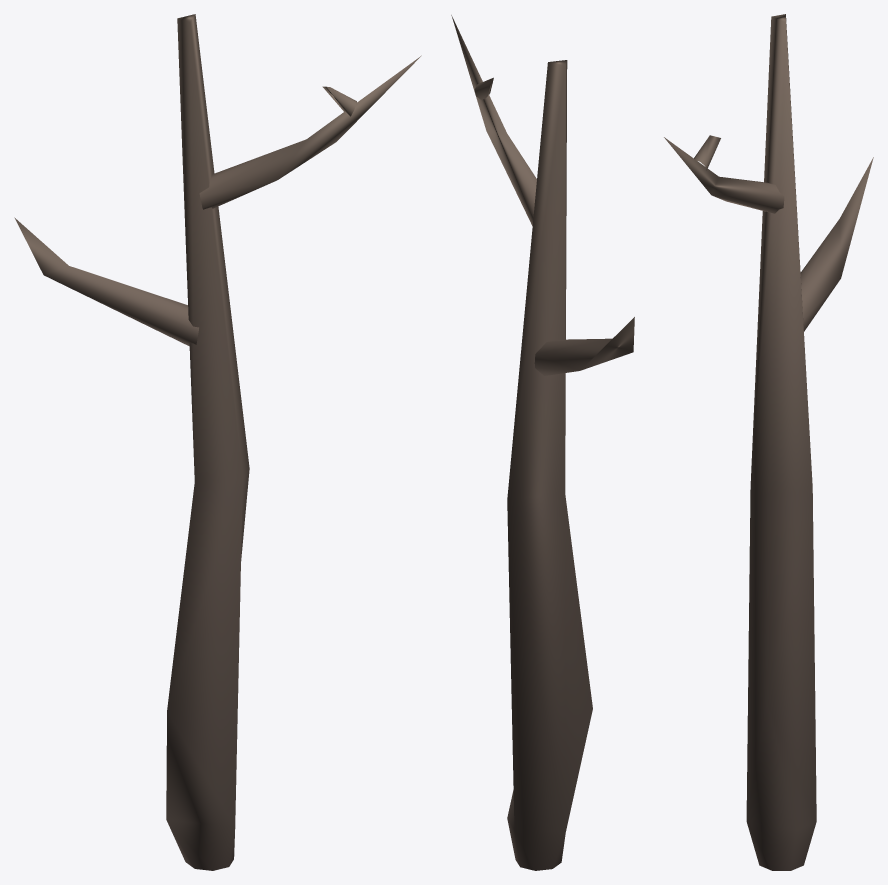
File: guardian_treant_trunk-small.glb
The picture shows the model from 3 angles, left to right: view 1: azimuth 30°, elevation 25°; view 2: azimuth 150°, elevation 25°; view 3: azimuth 270°, elevation 25°; orthographic projection. The views are drawn at different scales.
Visible parts, largest first — view 1: tree_dead_large; view 2: tree_dead_large; view 3: tree_dead_large.
Part boxes in pixels (<box>): tree_dead_large: <box>14,14,421,870</box>; tree_dead_large: <box>451,15,634,870</box>; tree_dead_large: <box>664,14,873,870</box>.
Size of the model in its own units: 1.88 by 5.04 by 1.16.
Materials: 1 (1 with a texture image).
